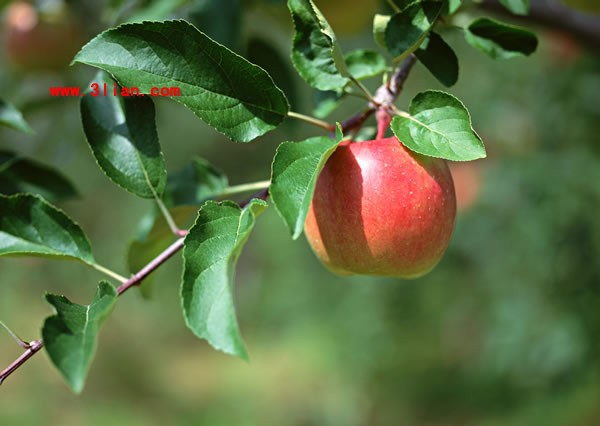obscured(1)_apple: (302, 141, 460, 278)
